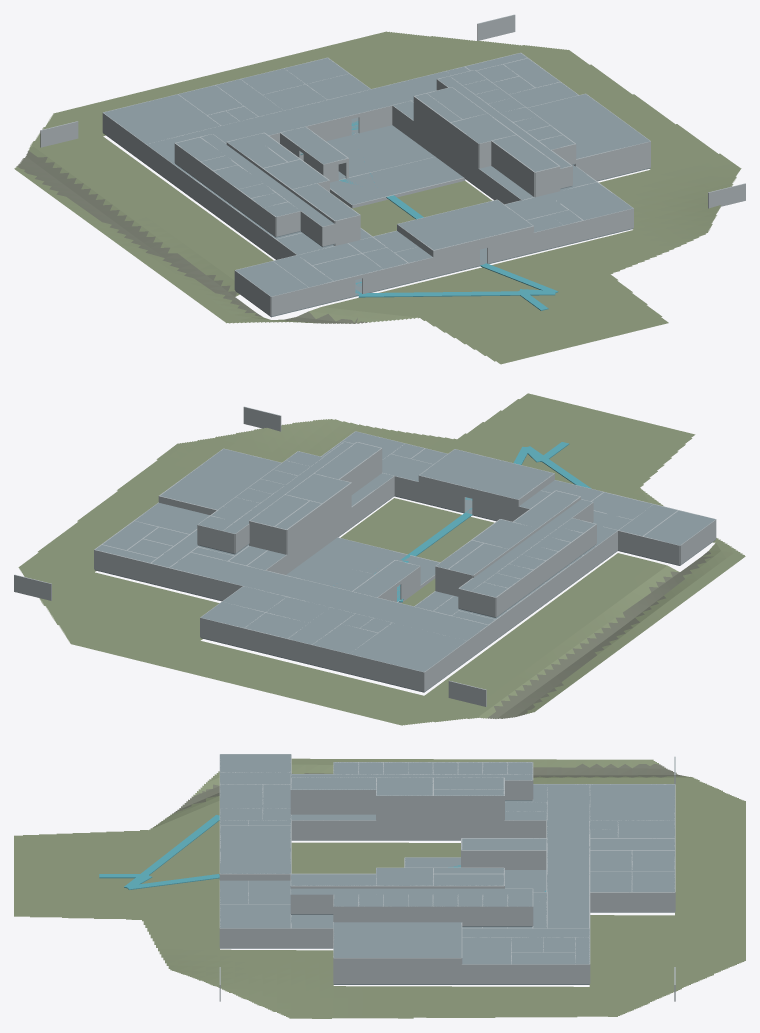
The model's file is terrain-assembly.glb.
3 renders of one model, top to bottom at view 1: azimuth 30°, elevation 25°; view 2: azimuth 150°, elevation 25°; view 3: azimuth 270°, elevation 25°, orthographic.
Visible parts, largest first — view 1: Saved editor macroterrain PRISON, Ceiling cap cross, Ceiling cap chapel, Ceiling cap sally, Ceiling cap dining, Ceiling cap laundry, Ceiling cap plant, Wall chapel S, Ceiling cap guard-link, Wall b-rear-bypass W, Ceiling cap a-upper-gallery, Wall b-dayhall W (+40 smaller); view 2: Saved editor macroterrain PRISON, Ceiling cap cross, Ceiling cap chapel, Ceiling cap sally, Ceiling cap dining, Ceiling cap laundry, Wall b-rear-bypass W, Wall dining N, Ceiling cap plant, Ceiling cap a-upper-gallery, Wall cross N.002, Wall b-dayhall W (+36 smaller); view 3: Saved editor macroterrain PRISON, Ceiling cap cross, Ceiling cap chapel, Ceiling cap sally, Wall chapel E, Ceiling cap dining, Wall a-rear-bypass E, Wall a-dayhall E, Wall a-stair E, Ceiling cap guard-link, Wall a-front-aisle E, Ceiling cap b-upper-gallery (+45 smaller).
Part boxes in pixels (left/top/right/bottom): Saved editor macroterrain PRISON: left=14, top=31, right=741, bottom=364; Ceiling cap cross: left=146, top=71, right=451, bottom=159; Ceiling cap chapel: left=527, top=94, right=649, bottom=158; Ceiling cap sally: left=398, top=200, right=532, bottom=249; Ceiling cap dining: left=103, top=94, right=219, bottom=143; Ceiling cap laundry: left=330, top=157, right=463, bottom=204; Ceiling cap plant: left=326, top=125, right=434, bottom=177; Wall chapel S: left=575, top=141, right=650, bottom=180; Ceiling cap guard-link: left=548, top=182, right=632, bottom=220; Wall b-rear-bypass W: left=413, top=96, right=450, bottom=166; Ceiling cap a-upper-gallery: left=201, top=134, right=334, bottom=226; Wall b-dayhall W: left=449, top=122, right=478, bottom=187; Saved editor macroterrain PRISON: left=18, top=393, right=745, bottom=725; Ceiling cap cross: left=170, top=552, right=487, bottom=640; Ceiling cap chapel: left=160, top=449, right=280, bottom=509; Ceiling cap sally: left=419, top=449, right=553, bottom=499; Ceiling cap dining: left=350, top=622, right=466, bottom=671; Ceiling cap laundry: left=309, top=537, right=439, bottom=584; Wall b-rear-bypass W: left=286, top=503, right=322, bottom=573; Wall dining N: left=349, top=654, right=424, bottom=691; Ceiling cap plant: left=286, top=558, right=374, bottom=591; Ceiling cap a-upper-gallery: left=459, top=499, right=592, bottom=591; Wall cross N.002: left=169, top=568, right=319, bottom=604; Wall b-dayhall W: left=322, top=482, right=351, bottom=547; Saved editor macroterrain PRISON: left=14, top=758, right=745, bottom=1018; Ceiling cap cross: left=547, top=784, right=589, bottom=928; Ceiling cap chapel: left=333, top=922, right=461, bottom=957; Ceiling cap sally: left=220, top=826, right=290, bottom=873; Wall chapel E: left=333, top=958, right=461, bottom=983; Ceiling cap dining: left=589, top=784, right=674, bottom=820; Wall a-rear-bypass E: left=433, top=795, right=504, bottom=839; Wall a-dayhall E: left=376, top=795, right=433, bottom=839; Wall a-stair E: left=291, top=789, right=375, bottom=814; Ceiling cap guard-link: left=220, top=904, right=290, bottom=928; Wall a-front-aisle E: left=291, top=820, right=376, bottom=839; Ceiling cap b-upper-gallery: left=291, top=888, right=532, bottom=894.
Size of the model in its own units: 87 by 9.96 by 103.
